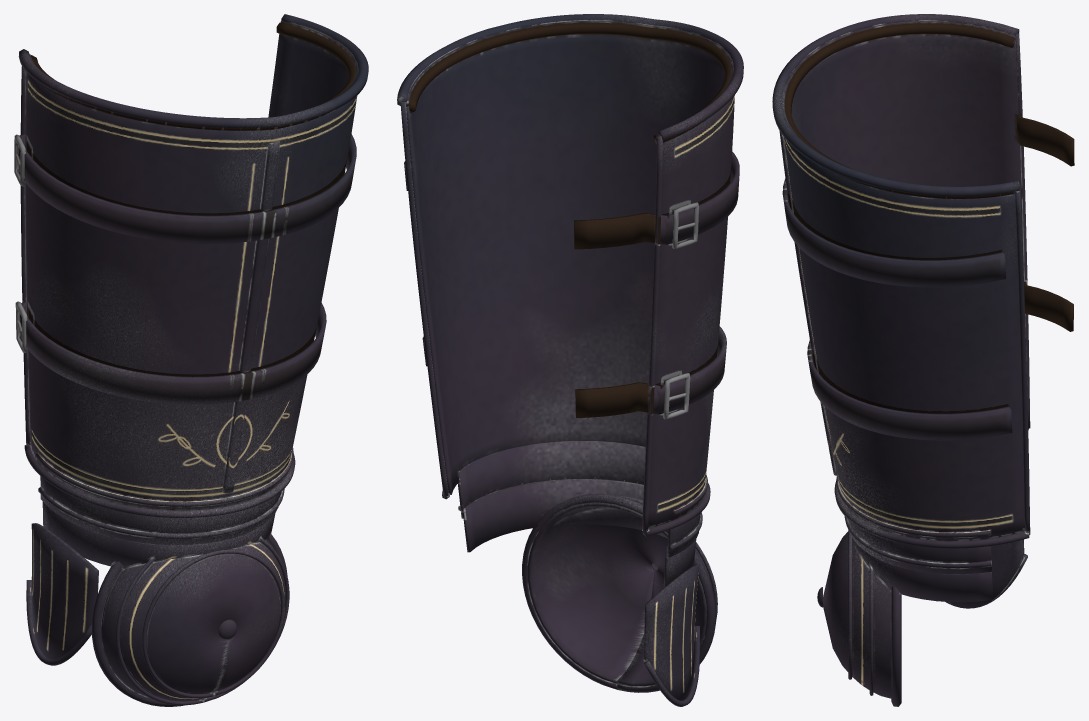
Rendered from SM_ObsidianSovereign_Thighs_R.fbx.
3 renders of one model, left to right at view 1: azimuth 30°, elevation 25°; view 2: azimuth 150°, elevation 25°; view 3: azimuth 270°, elevation 25°, orthographic. The views are drawn at different scales.
Visible parts, largest first — view 1: SM_ObsidianSovereign_Thighs_R; view 2: SM_ObsidianSovereign_Thighs_R; view 3: SM_ObsidianSovereign_Thighs_R.
Boxes of the visible parts, box(x1,y1,x2,y2) form: SM_ObsidianSovereign_Thighs_R: box(14, 14, 368, 706); SM_ObsidianSovereign_Thighs_R: box(397, 14, 743, 706); SM_ObsidianSovereign_Thighs_R: box(772, 14, 1074, 706).
Size of the model in its own units: 19.7 by 17.39 by 39.74.
